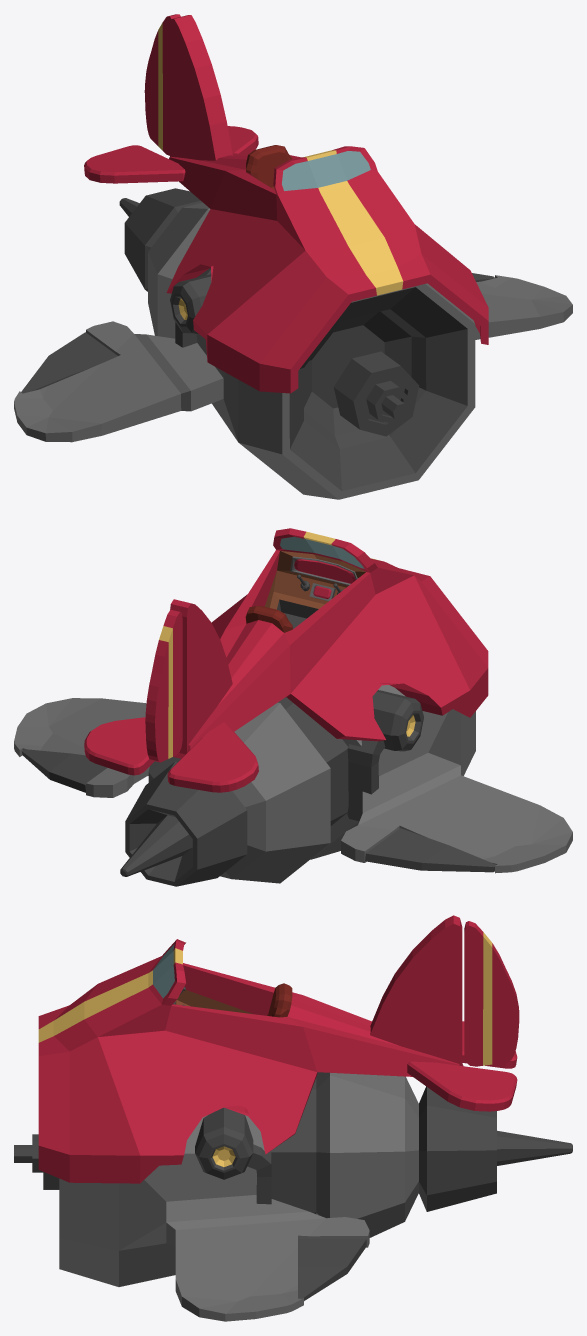
Rendered from aircraft-A-A.fbx.
3 views of the same model, one above another, from view 1: azimuth 30°, elevation 25°; view 2: azimuth 150°, elevation 25°; view 3: azimuth 270°, elevation 25° (orthographic).
Visible parts, largest first — view 1: Cylinder.027, Cube.008; view 2: Cylinder.027, Cube.008, Cube.007; view 3: Cylinder.027, Cube.007.
Part boxes in pixels (x1,y1,x2,y2): Cylinder.027: (14,14,572,499); Cube.008: (21,332,117,393); Cylinder.027: (14,528,572,886); Cube.008: (365,828,495,872); Cube.007: (21,749,107,792); Cylinder.027: (14,915,572,1321); Cube.007: (298,1239,366,1300).
Size of the model in its own units: 813 by 496 by 727.
